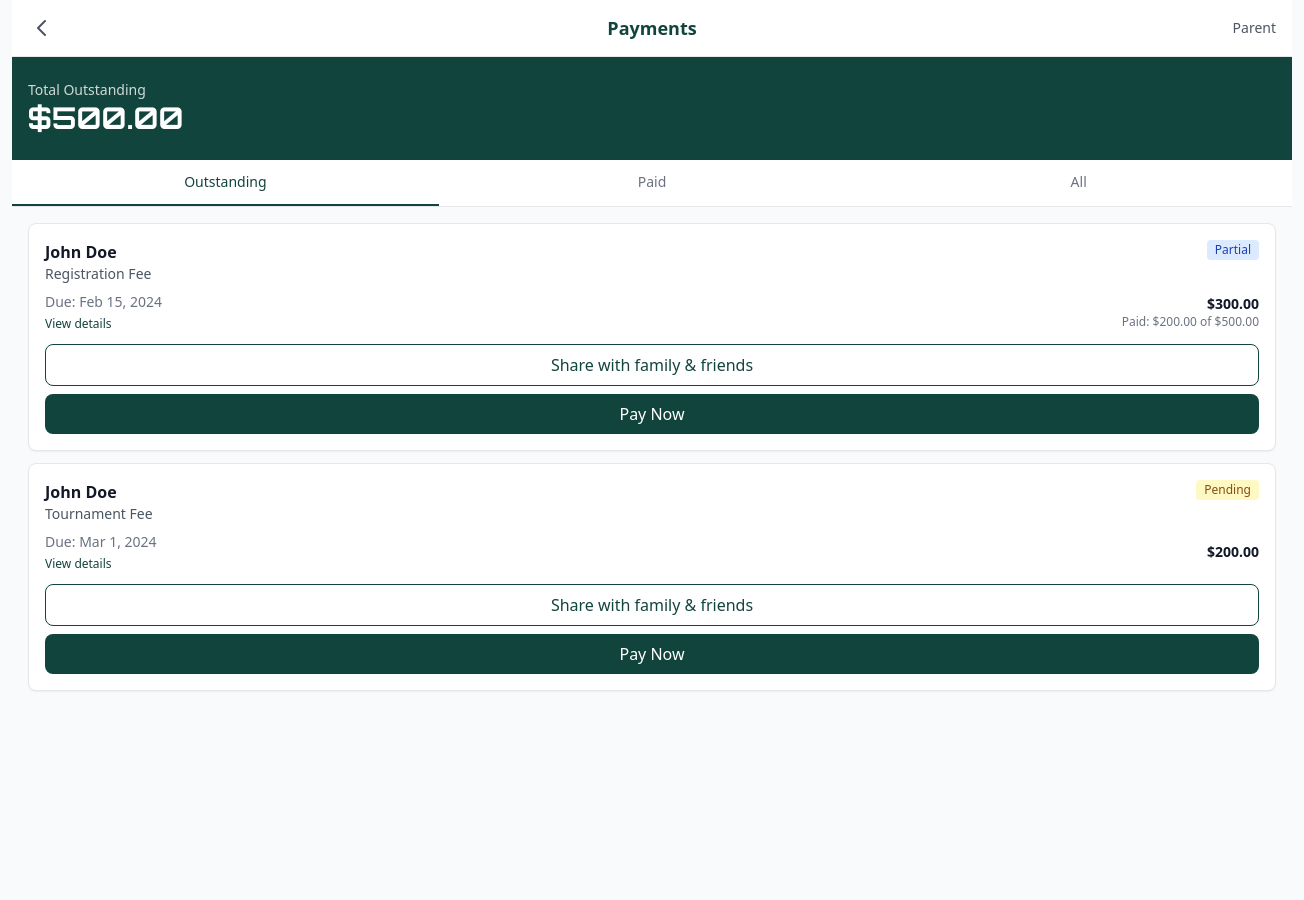
PaymentStatusPage › filters to paid invoices when tab clicked
Check: the text "Registration Fee" is shown, box [45, 264, 151, 284]
Click the button "Paid" at (652, 183), box [439, 160, 865, 206]
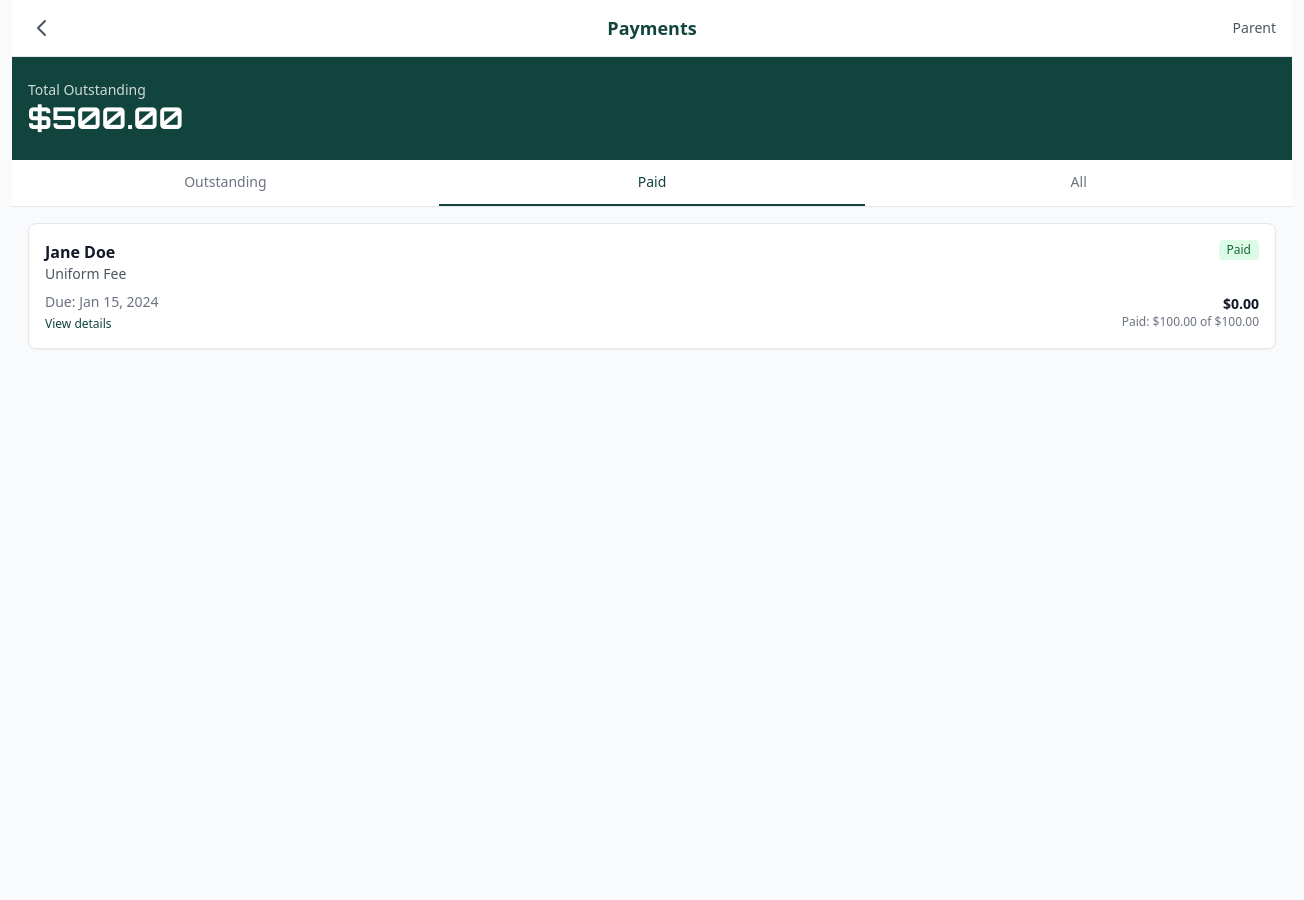
Check: the text "Uniform Fee" is shown, box [45, 264, 126, 284]
Check: the button "Registration Fee" is gone
